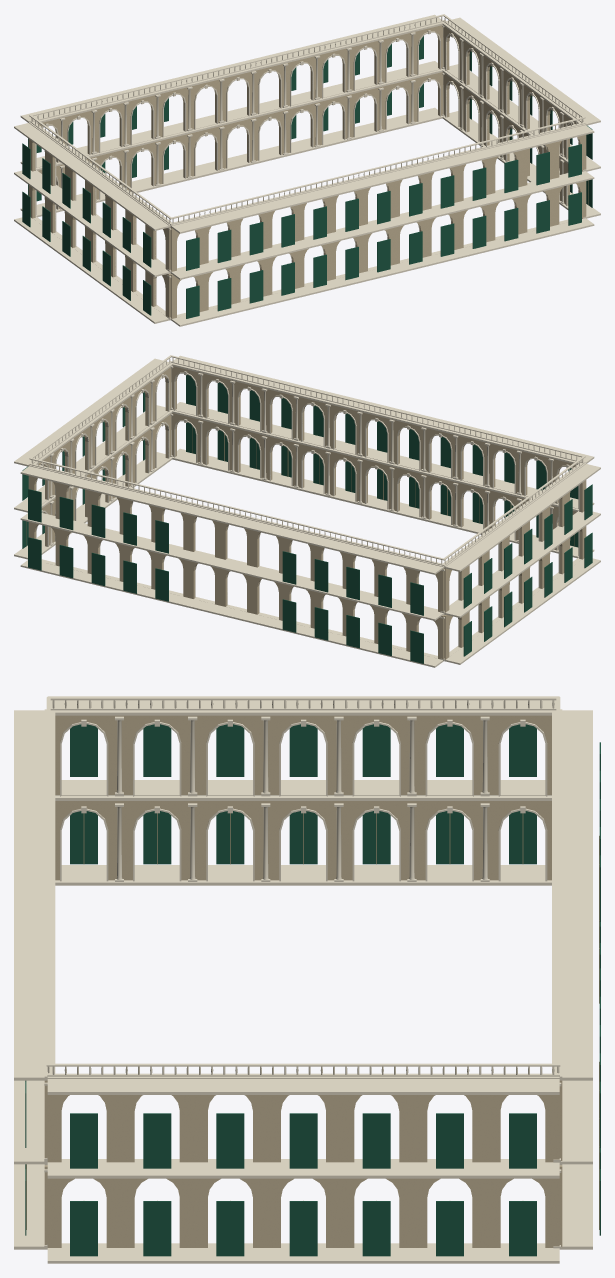
File: KOL_T1_INDIAN_MUSEUM__03_ModularArchitecture.fbx
3 renders of one model, top to bottom at view 1: azimuth 30°, elevation 25°; view 2: azimuth 150°, elevation 25°; view 3: azimuth 270°, elevation 25°, orthographic. The views are drawn at different scales.
Parts seen in each view (by area): view 1: KOL_T1_INDIAN_MUSEUM__03_ModularArchitecture__KOL_T1_B4_Muse (×3), KOL_T1_INDIAN_MUSEUM__03_ModularArchitecture__KOL_T1_B4_Gree; view 2: KOL_T1_INDIAN_MUSEUM__03_ModularArchitecture__KOL_T1_B4_Muse (×3), KOL_T1_INDIAN_MUSEUM__03_ModularArchitecture__KOL_T1_B4_Gree; view 3: KOL_T1_INDIAN_MUSEUM__03_ModularArchitecture__KOL_T1_B4_Muse (×4), KOL_T1_INDIAN_MUSEUM__03_ModularArchitecture__KOL_T1_B4_Gree.
Part boxes in pixels (left/top/right/bottom): KOL_T1_INDIAN_MUSEUM__03_ModularArchitecture__KOL_T1_B4_Muse (×3): left=14, top=14, right=600, bottom=326; KOL_T1_INDIAN_MUSEUM__03_ModularArchitecture__KOL_T1_B4_Gree: left=22, top=36, right=592, bottom=318; KOL_T1_INDIAN_MUSEUM__03_ModularArchitecture__KOL_T1_B4_Muse (×3): left=14, top=355, right=600, bottom=667; KOL_T1_INDIAN_MUSEUM__03_ModularArchitecture__KOL_T1_B4_Gree: left=22, top=374, right=592, bottom=663; KOL_T1_INDIAN_MUSEUM__03_ModularArchitecture__KOL_T1_B4_Muse (×4): left=14, top=696, right=599, bottom=1263; KOL_T1_INDIAN_MUSEUM__03_ModularArchitecture__KOL_T1_B4_Gree: left=25, top=724, right=600, bottom=1256.
Bounding box in the file's own units: 194 × 42.23 × 122.
Materials: 4 (1 with a texture image).
